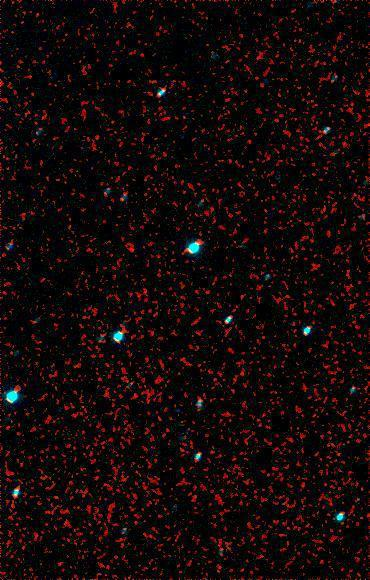star: (117, 234, 147, 264)
